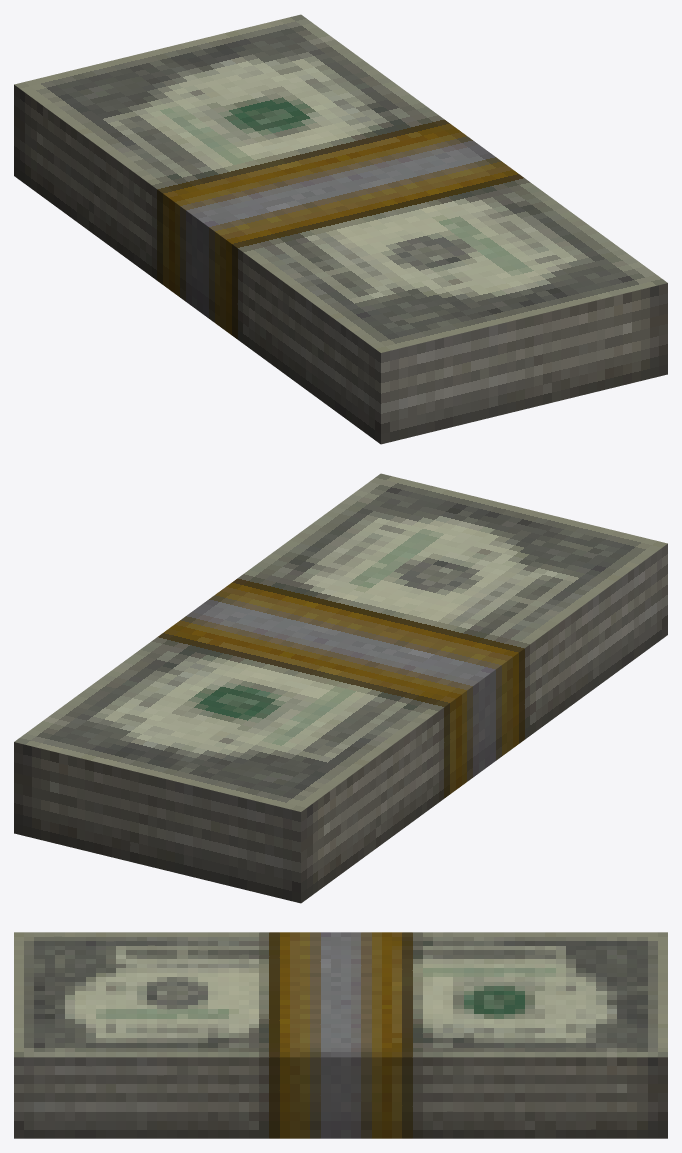
File: cash_1.glb
3 renders of one model, top to bottom at view 1: azimuth 30°, elevation 25°; view 2: azimuth 150°, elevation 25°; view 3: azimuth 270°, elevation 25°, orthographic. The views are drawn at different scales.
Visible parts, largest first — view 1: cash_1; view 2: cash_1; view 3: cash_1.
Boxes of the visible parts, x1,y1,x2,y2 form: cash_1: [14, 14, 667, 444]; cash_1: [14, 473, 667, 903]; cash_1: [14, 932, 667, 1138].
Size of the model in its own units: 0.1031 by 0.0314 by 0.2281.
1 material, 1 textured.
